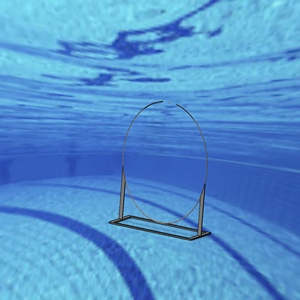circle: (109, 100, 214, 241)
